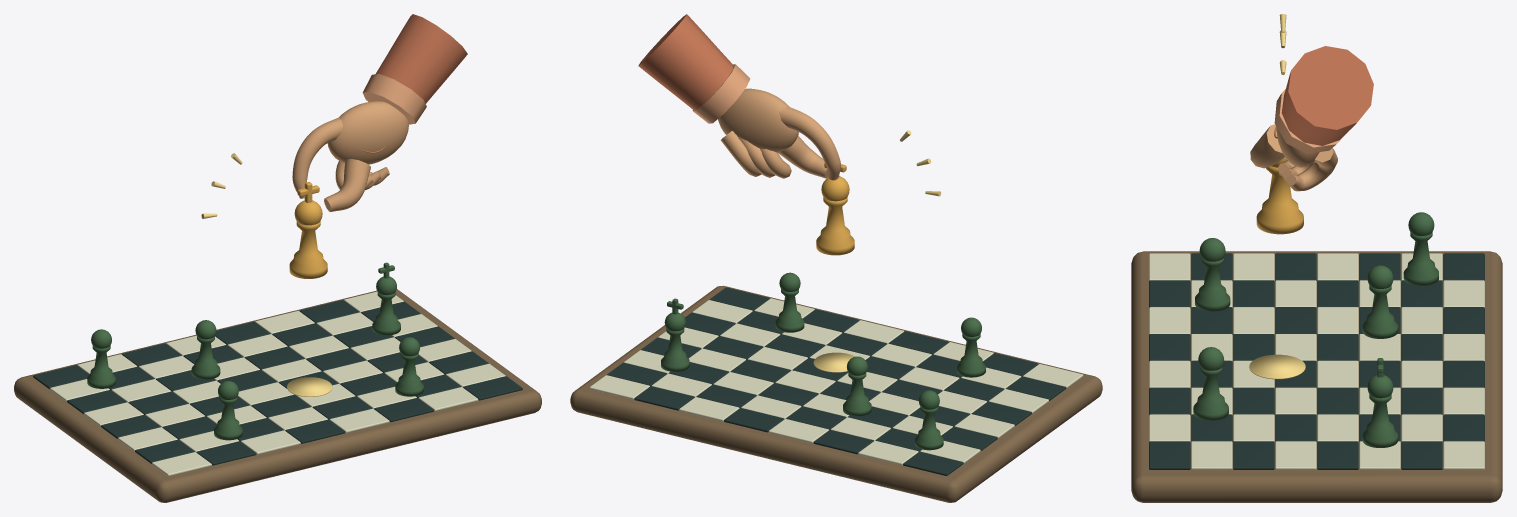
Rendered from expert.glb.
3 views of the same model, side by side, from view 1: azimuth 30°, elevation 25°; view 2: azimuth 150°, elevation 25°; view 3: azimuth 270°, elevation 25° (orthographic). The views are drawn at different scales.
Visible parts, largest first — view 1: expert_surface_02, expert_surface_01, expert_surface_00, expert_surface_06, expert_surface_03, expert_surface_04, expert_surface_08, expert_surface_05, expert_surface_09; view 2: expert_surface_01, expert_surface_02, expert_surface_00, expert_surface_06, expert_surface_03, expert_surface_04, expert_surface_08, expert_surface_05, expert_surface_09; view 3: expert_surface_01, expert_surface_02, expert_surface_00, expert_surface_03, expert_surface_04, expert_surface_06, expert_surface_08, expert_surface_09, expert_surface_05.
Boxes of the visible parts, x1=… form: expert_surface_02: x1=50, y1=291, x2=505, y2=476; expert_surface_01: x1=33, y1=300, x2=522, y2=465; expert_surface_00: x1=14, y1=289, x2=541, y2=502; expert_surface_06: x1=292, y1=101, x2=408, y2=211; expert_surface_03: x1=87, y1=262, x2=423, y2=440; expert_surface_04: x1=375, y1=14, x2=467, y2=103; expert_surface_08: x1=289, y1=182, x2=327, y2=278; expert_surface_05: x1=362, y1=73, x2=426, y2=124; expert_surface_09: x1=201, y1=153, x2=332, y2=396; expert_surface_01: x1=607, y1=287, x2=1066, y2=475; expert_surface_02: x1=589, y1=298, x2=1083, y2=465; expert_surface_00: x1=570, y1=285, x2=1102, y2=502; expert_surface_06: x1=718, y1=88, x2=840, y2=180; expert_surface_03: x1=661, y1=272, x2=985, y2=450; expert_surface_04: x1=638, y1=14, x2=733, y2=110; expert_surface_08: x1=816, y1=163, x2=854, y2=255; expert_surface_05: x1=692, y1=64, x2=750, y2=123; expert_surface_09: x1=813, y1=130, x2=940, y2=372; expert_surface_01: x1=1149, y1=253, x2=1484, y2=469; expert_surface_02: x1=1149, y1=253, x2=1484, y2=469; expert_surface_00: x1=1131, y1=251, x2=1502, y2=502; expert_surface_03: x1=1193, y1=212, x2=1438, y2=447; expert_surface_04: x1=1281, y1=46, x2=1373, y2=145; expert_surface_06: x1=1250, y1=124, x2=1337, y2=191; expert_surface_08: x1=1256, y1=157, x2=1303, y2=234; expert_surface_09: x1=1249, y1=14, x2=1305, y2=379; expert_surface_05: x1=1274, y1=89, x2=1349, y2=153.
Size of the model in its own units: 3.9 by 3.39 by 2.63.
